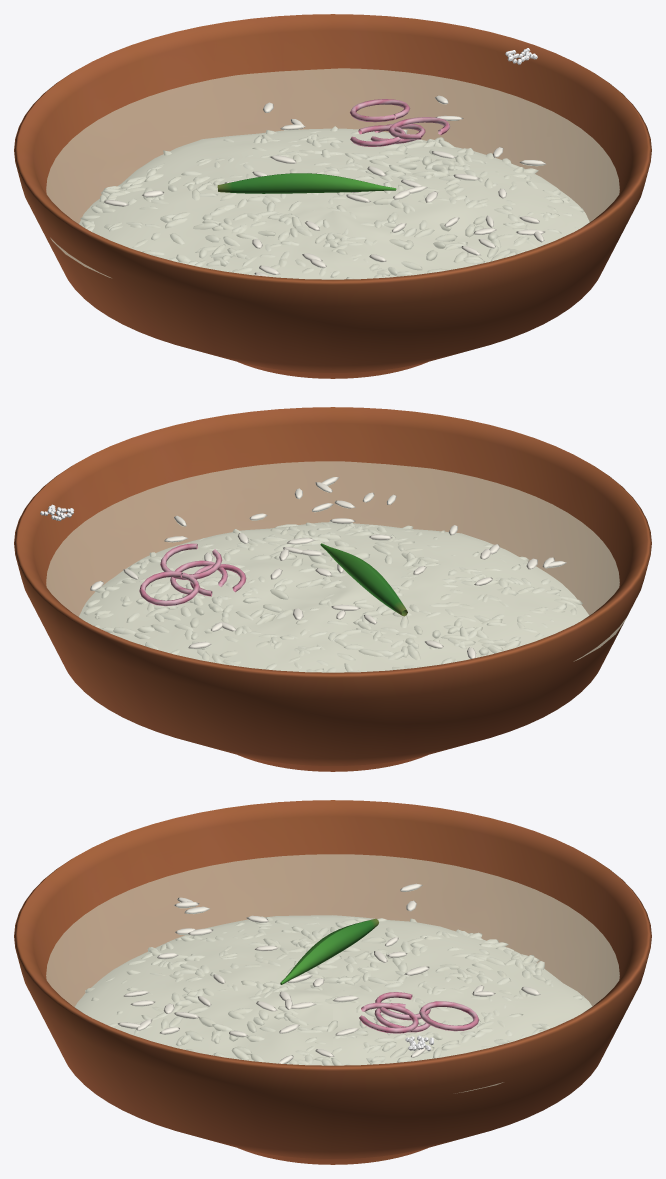
File: panta-rice.glb
3 views of the same model, one above another, from view 1: azimuth 30°, elevation 25°; view 2: azimuth 150°, elevation 25°; view 3: azimuth 270°, elevation 25° (orthographic).
Parts seen in each view (by area): view 1: clay, water, rice, garnish; view 2: clay, water, rice, garnish; view 3: clay, water, rice, garnish.
Boxes of the visible parts, x1=… form: clay: x1=14, y1=14, x2=651, y2=378; water: x1=46, y1=68, x2=619, y2=279; rice: x1=79, y1=95, x2=589, y2=279; garnish: x1=217, y1=48, x2=537, y2=193; clay: x1=14, y1=407, x2=651, y2=771; water: x1=46, y1=461, x2=625, y2=672; rice: x1=79, y1=477, x2=588, y2=672; garnish: x1=40, y1=504, x2=407, y2=616; clay: x1=14, y1=800, x2=651, y2=1164; water: x1=46, y1=854, x2=619, y2=1092; rice: x1=75, y1=883, x2=592, y2=1065; garnish: x1=280, y1=918, x2=479, y2=1051.
Bounding box in the file's own units: 1.48 × 0.4601 × 1.48.
